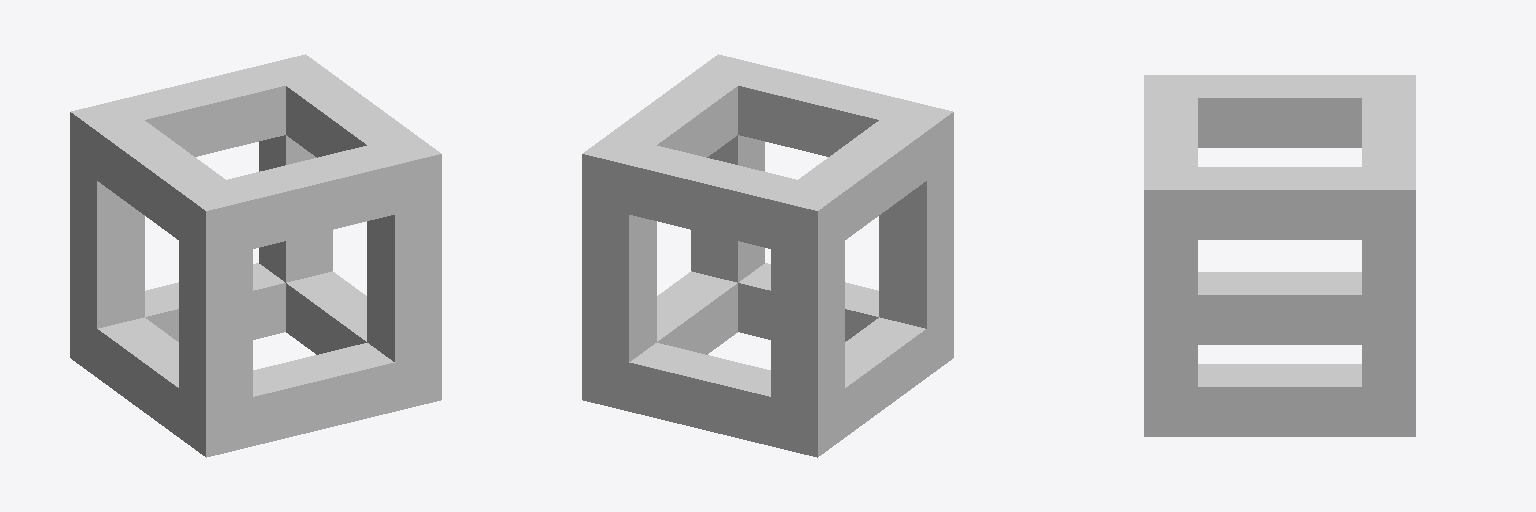
The picture shows the model from 3 angles: view 1: azimuth 30°, elevation 25°; view 2: azimuth 150°, elevation 25°; view 3: azimuth 270°, elevation 25°; orthographic projection.
Visible parts, largest first — view 1: 立方体, 立方体.1, 立方体.2, 立方体.3; view 2: 立方体, 立方体.1, 立方体.2, 立方体.3; view 3: 立方体, 立方体.2, 立方体.1.
Part boxes in pixels (left/top/right/bottom): 立方体: left=70, top=54, right=441, bottom=457; 立方体.1: left=97, top=135, right=366, bottom=387; 立方体.2: left=145, top=86, right=366, bottom=354; 立方体.3: left=145, top=135, right=394, bottom=396; 立方体: left=582, top=54, right=953, bottom=457; 立方体.1: left=657, top=135, right=926, bottom=387; 立方体.2: left=657, top=86, right=878, bottom=354; 立方体.3: left=629, top=135, right=878, bottom=396; 立方体: left=1144, top=75, right=1415, bottom=436; 立方体.2: left=1198, top=98, right=1361, bottom=344; 立方体.1: left=1198, top=272, right=1361, bottom=386.
Bounding box in the file's own units: 200 × 200 × 200.